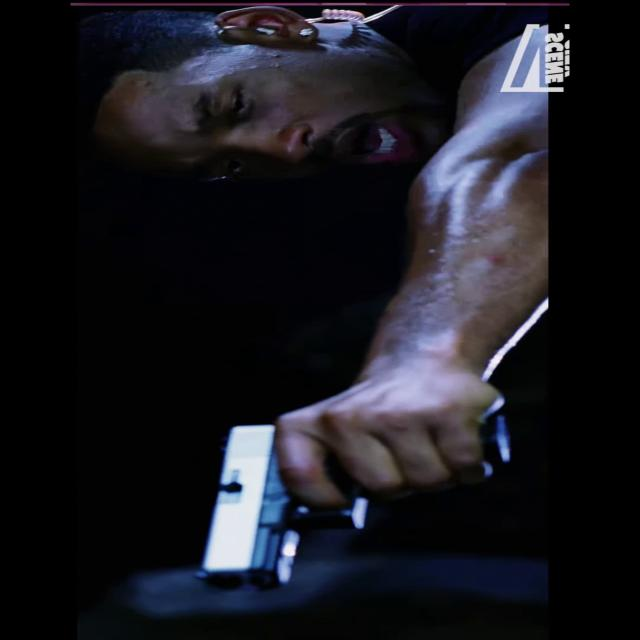weapons: (194, 402, 545, 590)
